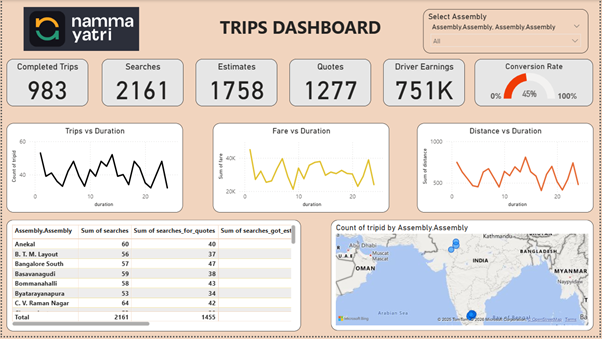

Layout of this report page (visuals, bound fields, positions):
{"tool":"powerbi","page":{"name":"Page 1","canvas":[1280,720],"ordinal":0},"visuals":[{"type":"card","title":"Completed Trips","fields":{"Values":["Trip_Details.end_ride"]},"box":[10.5,125.6,174.7,101.4],"z":0},{"type":"card","title":"Searches","fields":{"Values":["Trip_Details.searches"]},"box":[213.3,125.6,174.7,101.4],"z":1000},{"type":"card","title":"Estimates","fields":{"Values":["Trip_Details.searches_got_estimate"]},"box":[414.9,125.6,174.7,101.4],"z":2000},{"type":"card","title":"Quotes","fields":{"Values":["Trip_Details.searches_got_quotes"]},"box":[615.8,125.6,174.7,101.4],"z":3000},{"type":"card","title":"Driver Earnings","fields":{"Values":["Trips.fare"]},"box":[815.4,125.6,174.7,101.4],"z":4000},{"type":"gauge","title":"Conversion Rate","fields":{"Y":["Trip_Details.Conversion_Rate"]},"box":[1012.4,125.6,253.3,101.4],"z":5000},{"type":"lineChart","title":"Trips vs Duration","fields":{"Category":["Trips.duration"],"Y":["Trips.tripid"]},"box":[10.2,263.9,377.4,191.2],"z":6000},{"type":"lineChart","title":"Distance vs Duration","fields":{"Category":["Trips.duration"],"Y":["Trips.distance"]},"box":[888.6,263.9,377.4,191.2],"z":7000},{"type":"lineChart","title":"Fare vs Duration","fields":{"Category":["Trips.duration"],"Y":["Trips.fare"]},"box":[451.3,263.9,377.4,191.2],"z":8000},{"type":"tableEx","fields":{"Values":["Merge2.Assembly.Assembly","Merge2.searches","Merge2.searches_for_quotes","Merge2.searches_got_estimate","Merge2.searches_got_quotes","Merge2.Trips.fare","Merge2.Trips.distance","Trip_Details.Conversion_Rate"]},"box":[10.2,470.4,629.8,238.4],"z":9000},{"type":"map","fields":{"Category":["Merge2.Assembly.Assembly"],"Size":["Merge2.tripid"]},"box":[703.7,471.7,562.2,237.1],"z":10000},{"type":"image","box":[38.2,8.9,262.6,104.5],"z":11000},{"type":"textbox","box":[339.1,28,600.5,66.3],"z":12000},{"type":"slicer","title":"Select Assembly","fields":{"Values":["Merge2.Assembly.Assembly","Merge1.Assembly.Assembly"]},"box":[902.6,19.1,353.1,94.3],"z":13000}]}

Visuals, with their boxes in screenshot pixels (x1, y1, x2, y2), scaled from the page's 1280x720 canvas onto the 602x339 screenshot:
"Completed Trips" card: [left=5, top=59, right=87, bottom=107]
"Searches" card: [left=100, top=59, right=182, bottom=107]
"Estimates" card: [left=195, top=59, right=277, bottom=107]
"Quotes" card: [left=290, top=59, right=372, bottom=107]
"Driver Earnings" card: [left=383, top=59, right=466, bottom=107]
"Conversion Rate" gauge: [left=476, top=59, right=595, bottom=107]
"Trips vs Duration" lineChart: [left=5, top=124, right=182, bottom=214]
"Distance vs Duration" lineChart: [left=418, top=124, right=595, bottom=214]
"Fare vs Duration" lineChart: [left=212, top=124, right=390, bottom=214]
tableEx - Merge2.Assembly.Assembly x Merge2.searches: [left=5, top=221, right=301, bottom=334]
map - Merge2.Assembly.Assembly x Merge2.tripid: [left=331, top=222, right=595, bottom=334]
image: [left=18, top=4, right=141, bottom=53]
textbox: [left=159, top=13, right=442, bottom=44]
"Select Assembly" slicer: [left=425, top=9, right=591, bottom=53]
